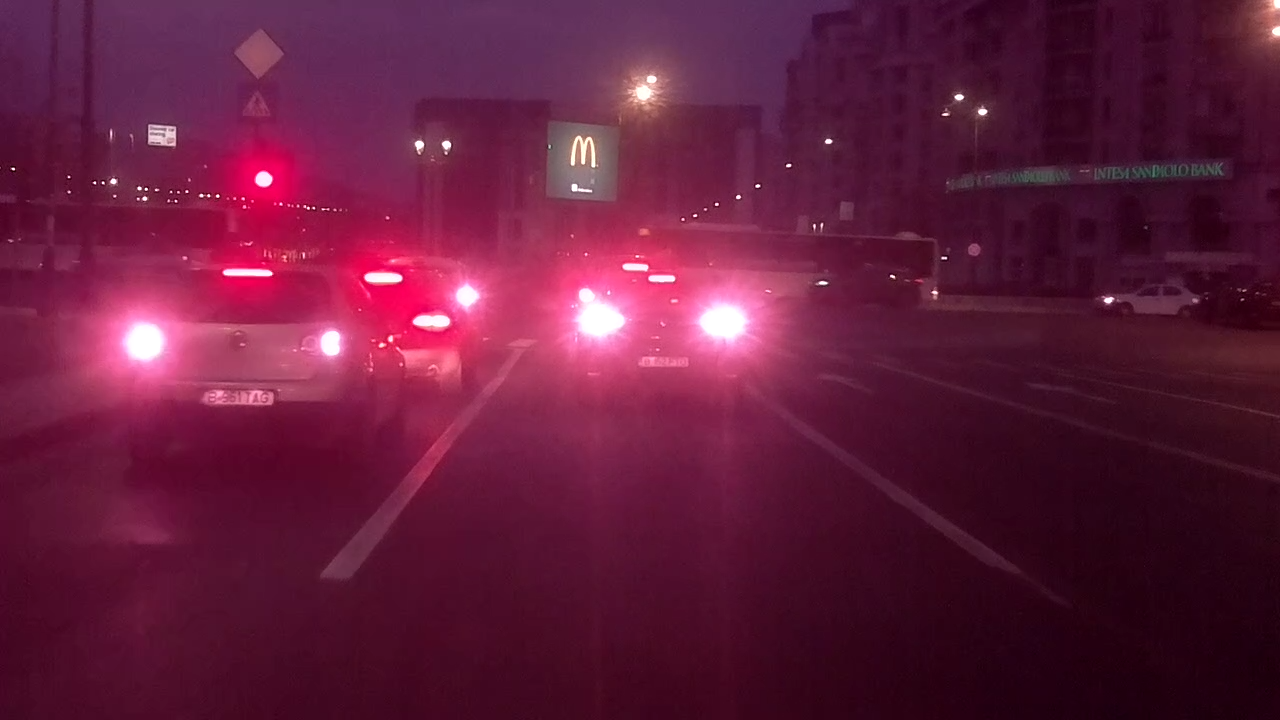license-plate: (198, 386, 279, 409)
